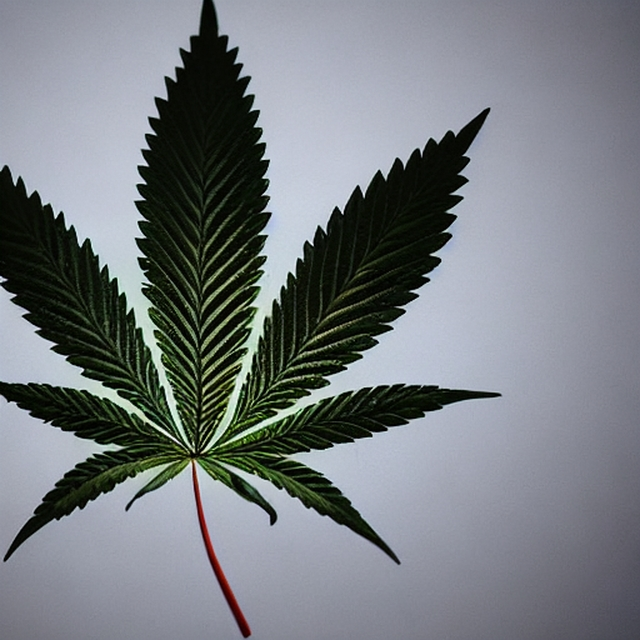Marijuana Leaf: (0, 0, 503, 638)
